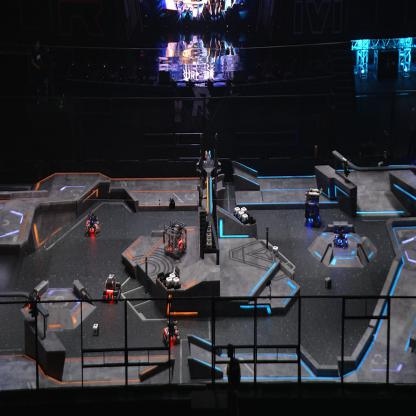car: (162, 219, 188, 259), (302, 186, 322, 228), (100, 272, 122, 303), (162, 316, 181, 346), (334, 223, 350, 250), (84, 210, 100, 236)
